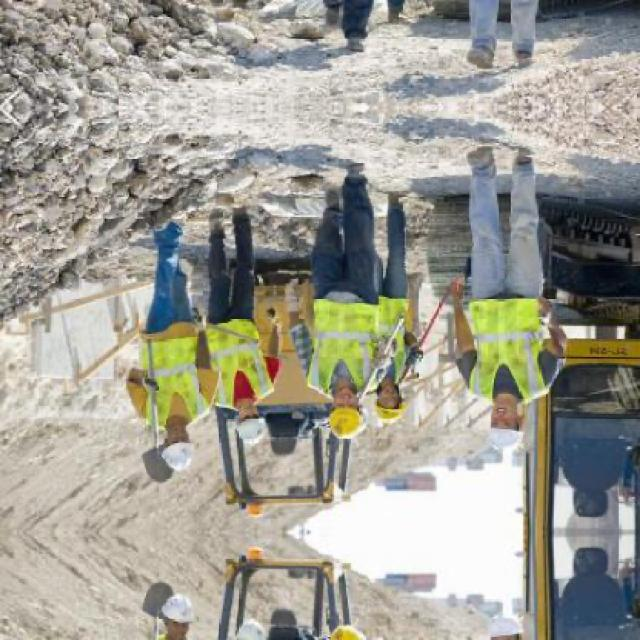con casco: (472, 376, 543, 466), (318, 367, 382, 451), (112, 410, 208, 466), (227, 384, 266, 439), (384, 383, 414, 441)
